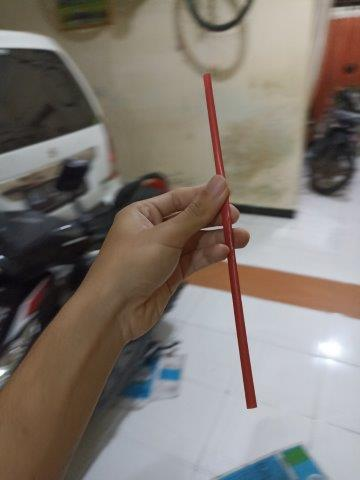sedotan: (204, 74, 257, 407)
